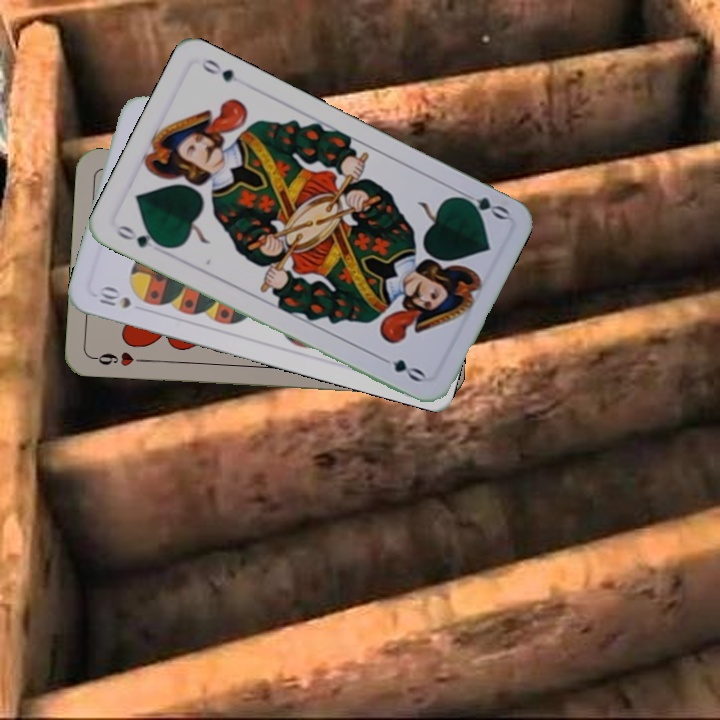GO: (453, 186, 511, 223), (111, 221, 169, 251)
H9: (89, 348, 148, 369)
S10: (95, 282, 134, 312)
